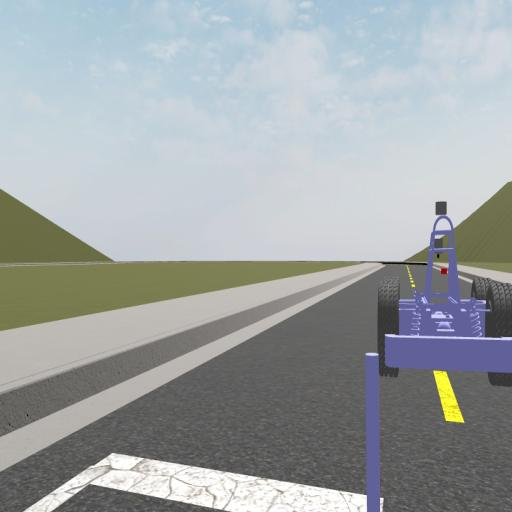ERP-42: (377, 201, 511, 387)
